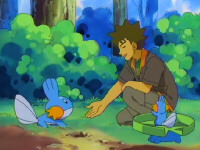mudkip: (13, 77, 76, 134), (151, 95, 178, 130)
